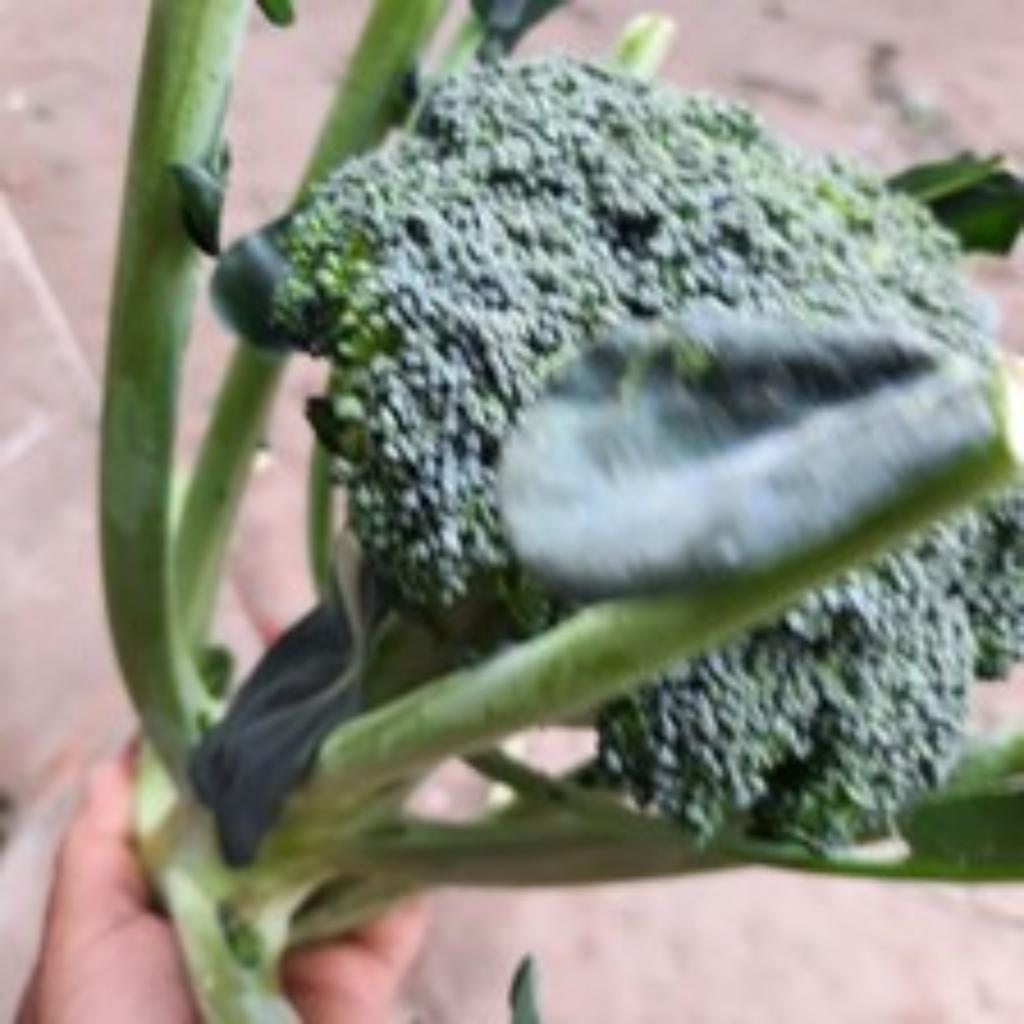Broccoli: (224, 58, 987, 629), (224, 58, 985, 607), (598, 486, 1024, 847)
